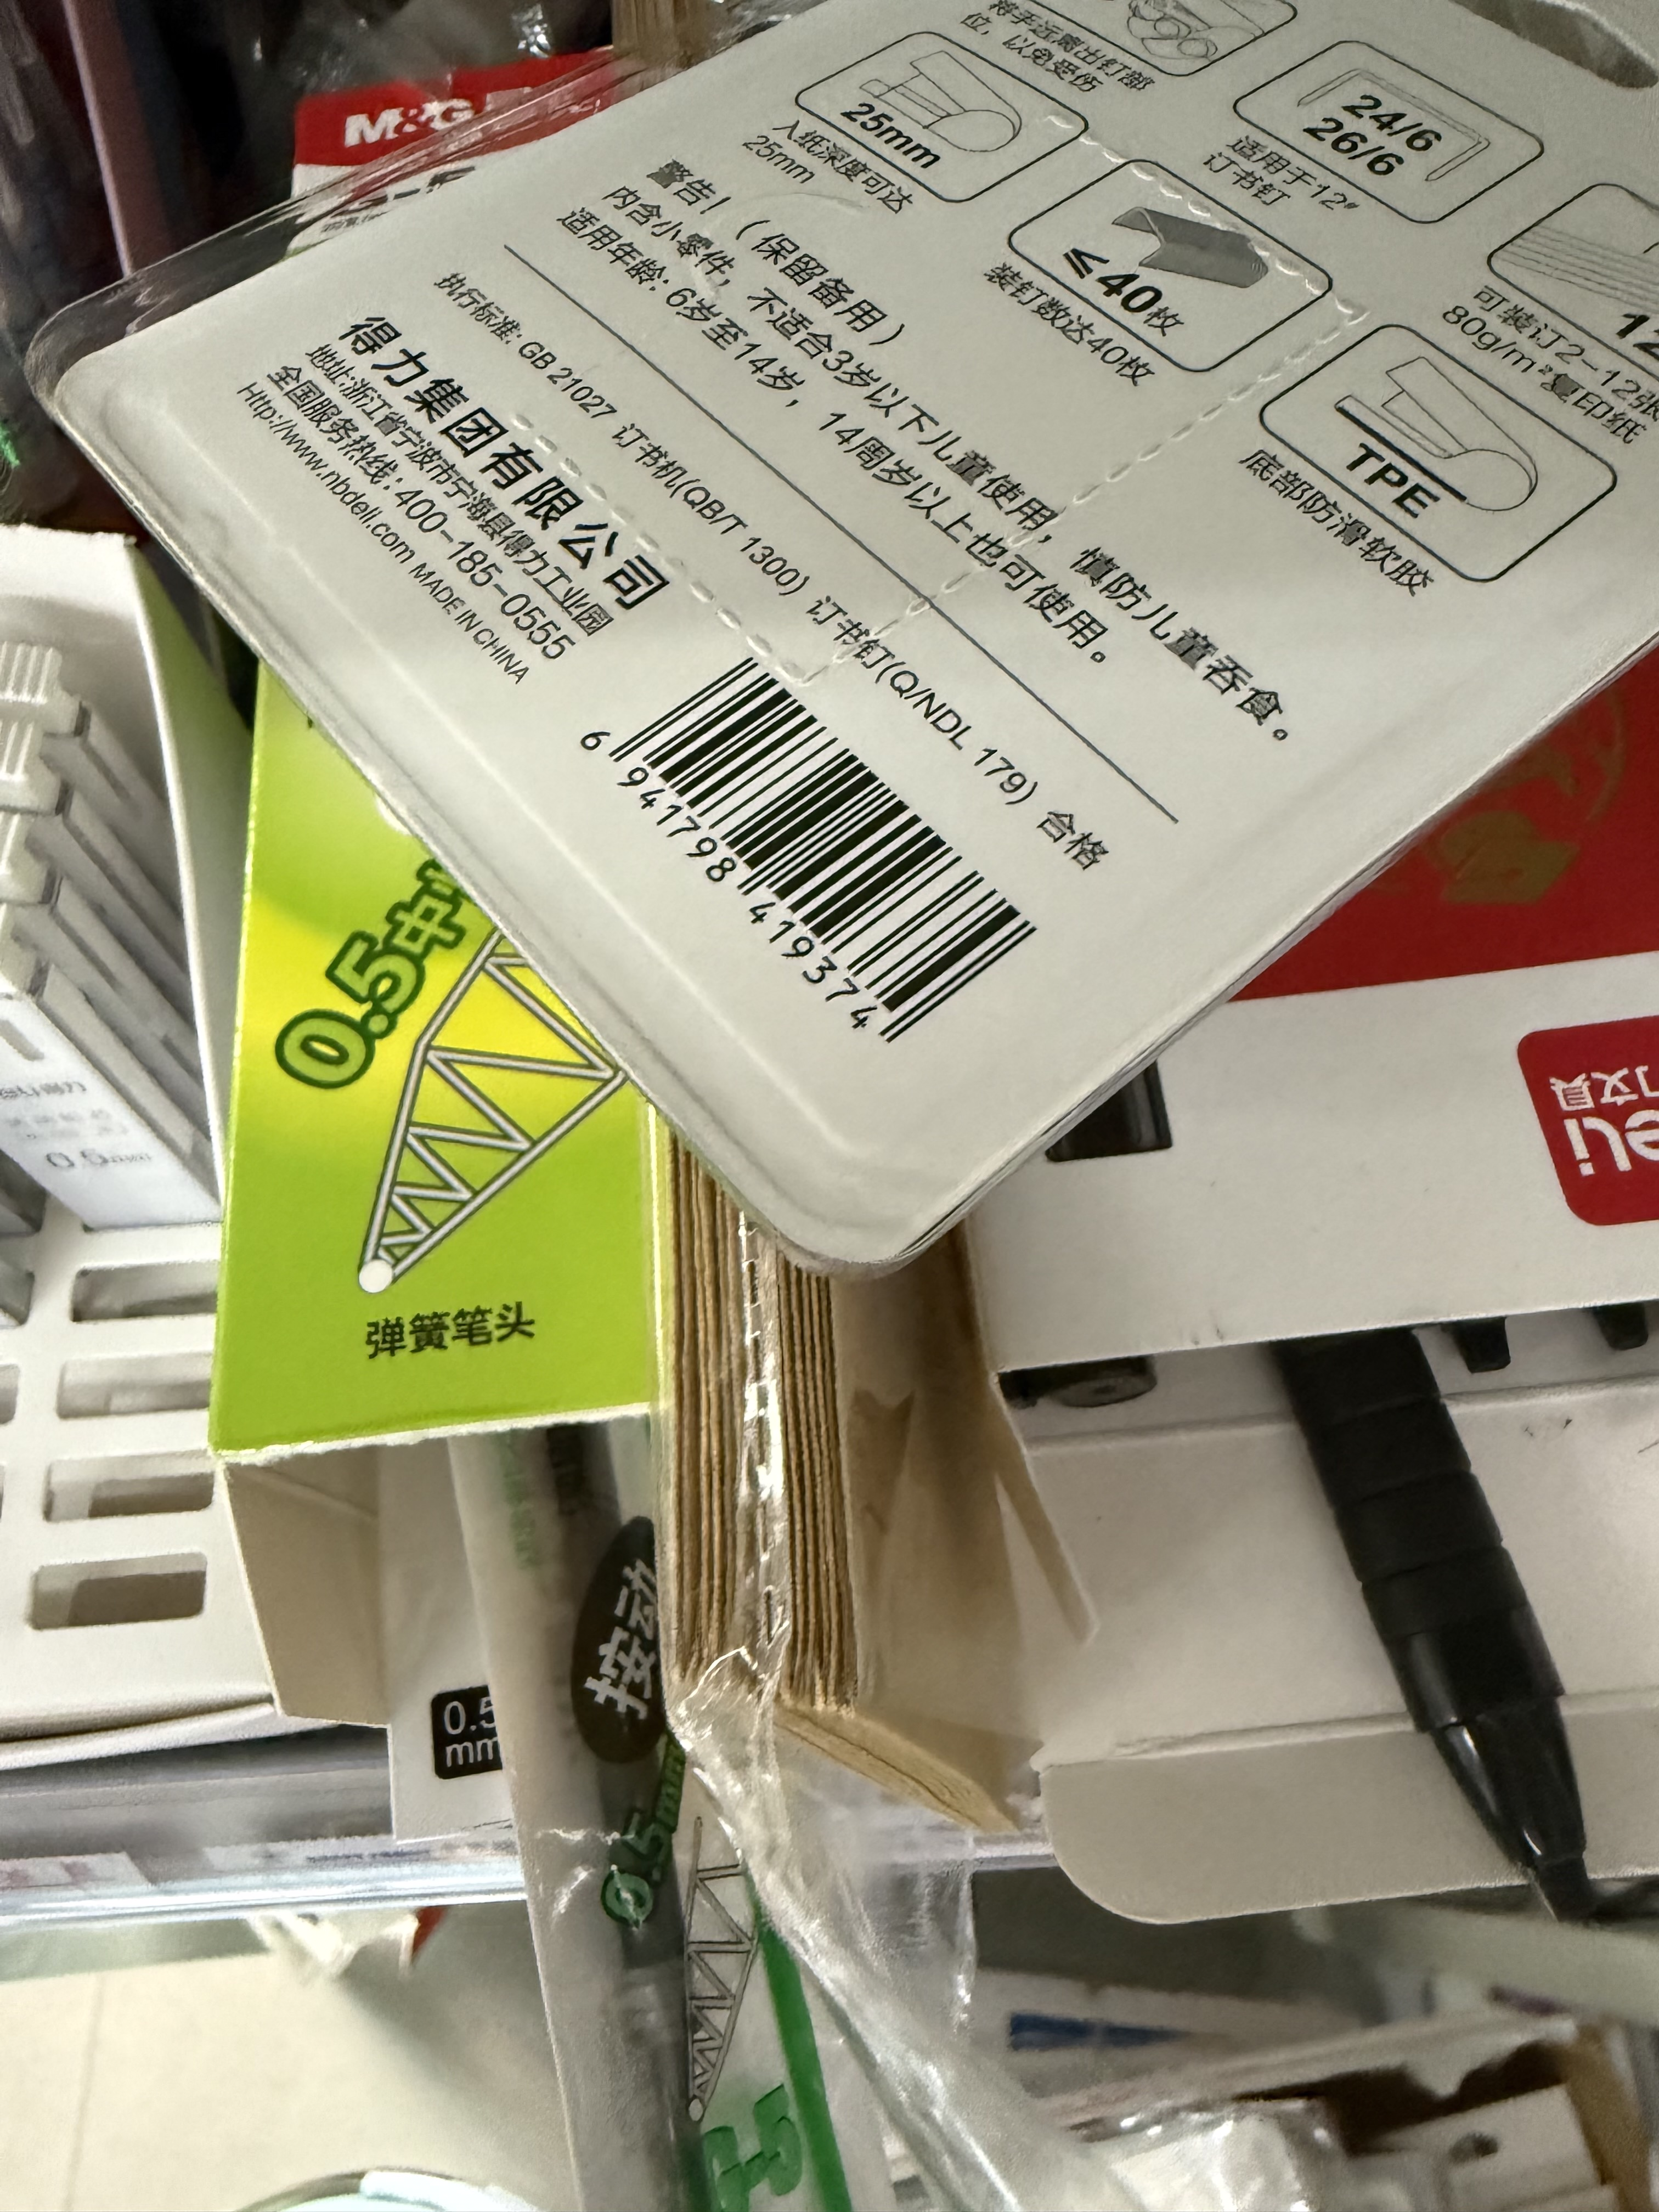bar: (605, 655, 1044, 1052)
